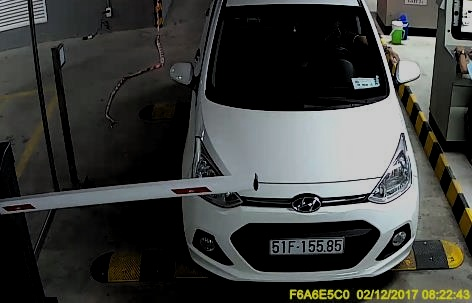plate: (269, 234, 345, 254)
